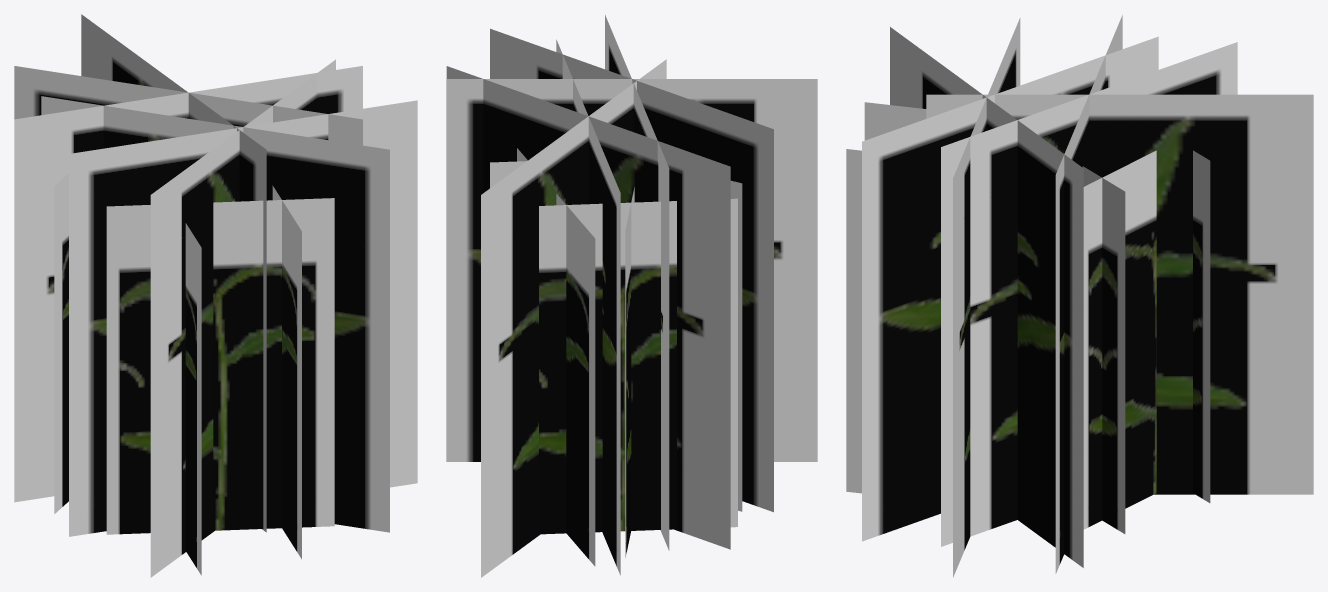
File: grass tropical4.FBX
3 views of the same model, side by side, from view 1: azimuth 30°, elevation 25°; view 2: azimuth 150°, elevation 25°; view 3: azimuth 270°, elevation 25° (orthographic). The views are drawn at different scales.
Parts seen in each view (by area): view 1: grass tropical4; view 2: grass tropical4; view 3: grass tropical4.
Boxes of the visible parts, x1,y1,x2,y2 form: grass tropical4: [14, 14, 417, 577]; grass tropical4: [446, 15, 817, 577]; grass tropical4: [846, 15, 1313, 577].
Bounding box in the file's own units: 5.83 × 6.63 × 7.02.
